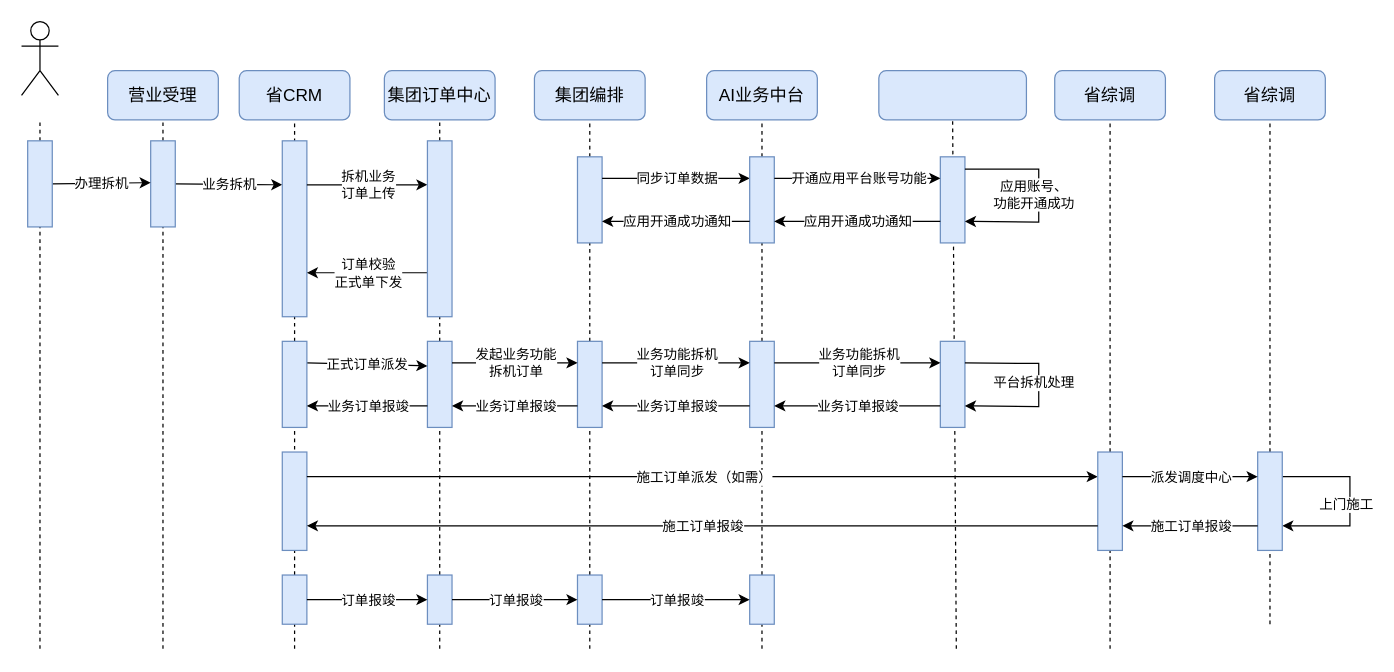
Some shapes in this 1394 by 672 pixel diagram are drawn without their labels. Here are the shapes that lost their labels. From the top down, the centre of each, then its label:
[39,57]: 客户
[952,94]: 星辰智慧大脑平台
